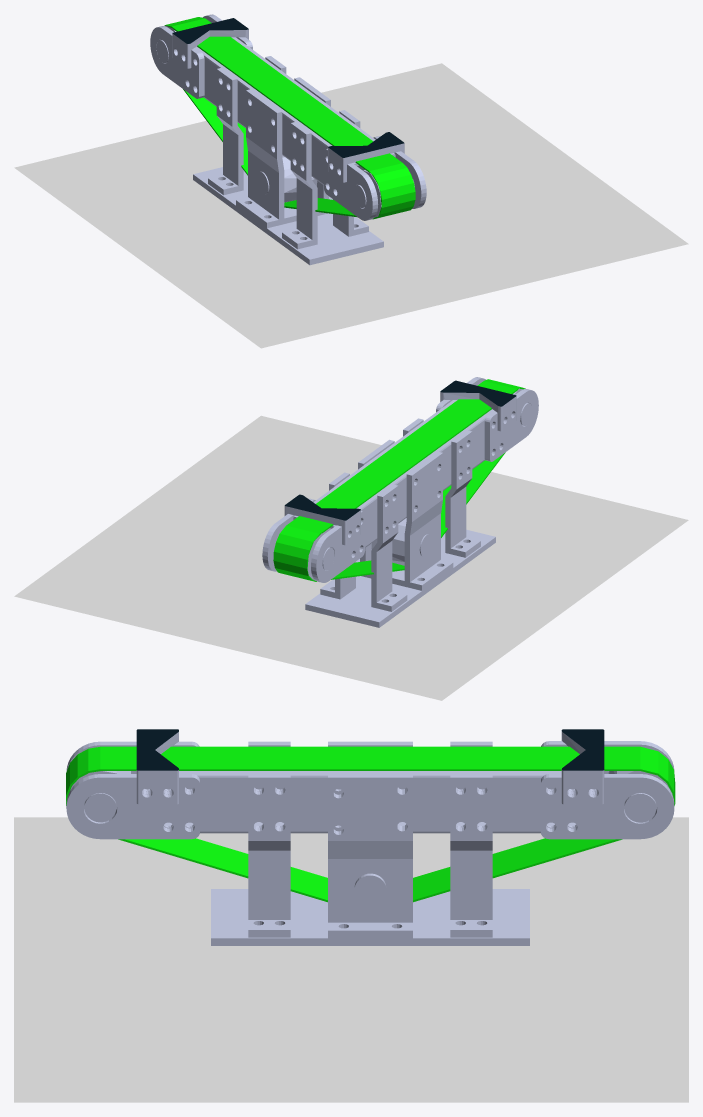
The model's file is conveyor_pro.fbx.
3 renders of one model, top to bottom at view 1: azimuth 30°, elevation 25°; view 2: azimuth 150°, elevation 25°; view 3: azimuth 270°, elevation 25°, orthographic. The views are drawn at different scales.
Visible parts, largest first — view 1: Plane001, ÇÐ³ý-ÀÉì3 (×4), É¨Ãè1, ÇÐ³ý-ÀÉì1 (×3), Í¹Ì¨-ÀÉì2 (×3), Í¹Ì¨-ÀÉì1 (×2); view 2: Plane001, ÇÐ³ý-ÀÉì3 (×4), É¨Ãè1, ÇÐ³ý-ÀÉì1 (×3), Í¹Ì¨-ÀÉì2 (×3), Í¹Ì¨-ÀÉì1 (×2); view 3: Plane001, ÇÐ³ý-ÀÉì3 (×3), ÇÐ³ý-ÀÉì1 (×6), É¨Ãè1, Í¹Ì¨-ÀÉì2 (×4), Í¹Ì¨-ÀÉì1.
Part boxes in pixels (box(x1,y1,x2,y2)): Plane001: box(14, 63, 688, 348); ÇÐ³ý-ÀÉì3 (×4): box(208, 67, 368, 249); É¨Ãè1: box(164, 17, 415, 219); ÇÐ³ý-ÀÉì1 (×3): box(172, 18, 404, 185); Í¹Ì¨-ÀÉì2 (×3): box(150, 26, 426, 220); Í¹Ì¨-ÀÉì1 (×2): box(193, 155, 383, 265); Plane001: box(14, 415, 688, 700); ÇÐ³ý-ÀÉì3 (×4): box(320, 430, 480, 611); É¨Ãè1: box(273, 379, 525, 581); ÇÐ³ý-ÀÉì1 (×3): box(284, 380, 516, 547); Í¹Ì¨-ÀÉì2 (×3): box(262, 389, 538, 582); Í¹Ì¨-ÀÉì1 (×2): box(305, 518, 495, 627); Plane001: box(14, 817, 688, 1102); ÇÐ³ý-ÀÉì3 (×3): box(248, 741, 492, 938); ÇÐ³ý-ÀÉì1 (×6): box(84, 729, 656, 904); É¨Ãè1: box(66, 746, 675, 902); Í¹Ì¨-ÀÉì2 (×4): box(66, 741, 674, 839); Í¹Ì¨-ÀÉì1: box(211, 889, 529, 945).
Bounding box in the file's own units: 25 × 7.06 × 25.
